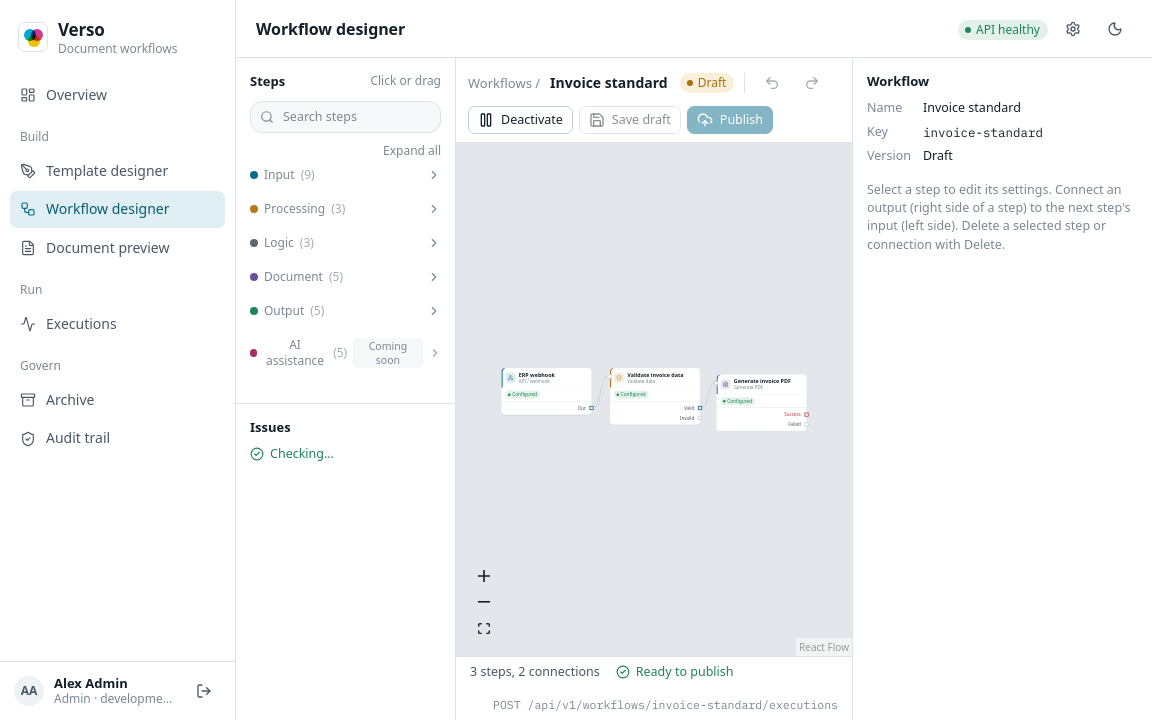
Test: Workflow designer › adds steps from the palette, and allows only one trigger
The width and height of the screenshot is (1152, 720).
Later steps or results of the test are not shown.
Expected: the element named "Workflow designer" is shown, [456,58,852,143]
Click the button "Expand all" at (412, 151), box [383,143,441,159]
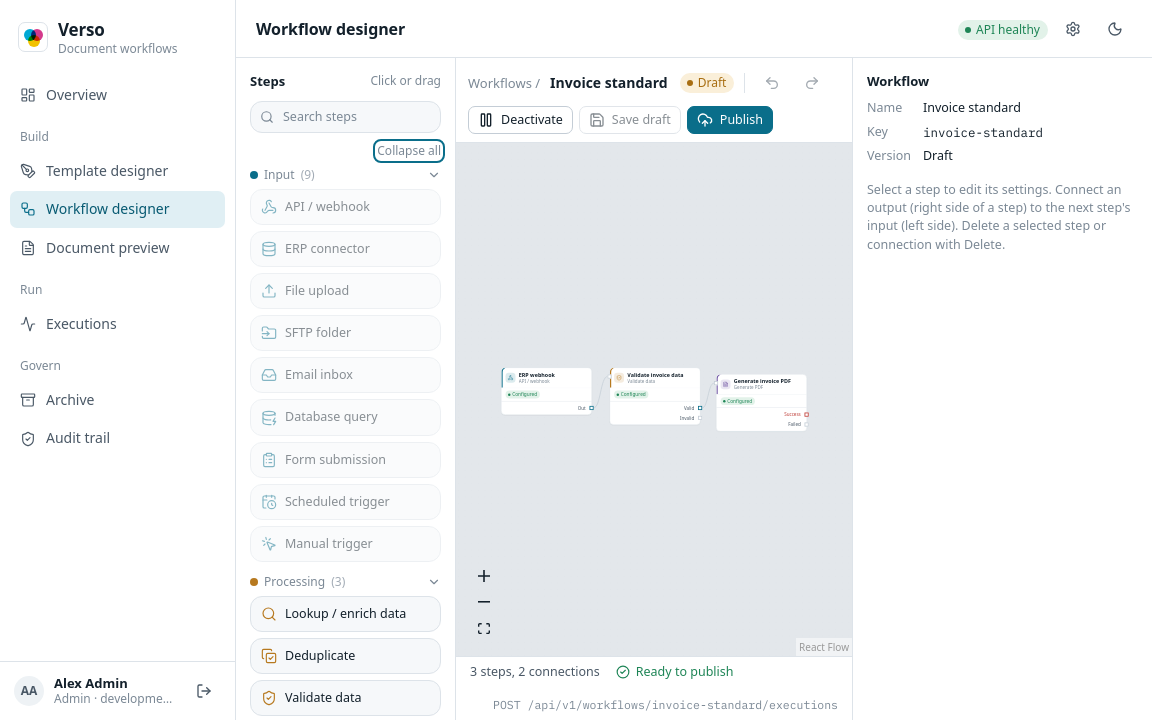
Expected: the button with aria-label "Add API / webhook" is disabled, [250,189,441,225]
Expected: the button with aria-label "Add ERP connector" is disabled, [250,231,441,267]
Expected: the button with aria-label "Add File upload" is disabled, [250,273,441,309]
Click the button with aria-label "Add Validate data" at (346, 698), box [250,680,441,716]
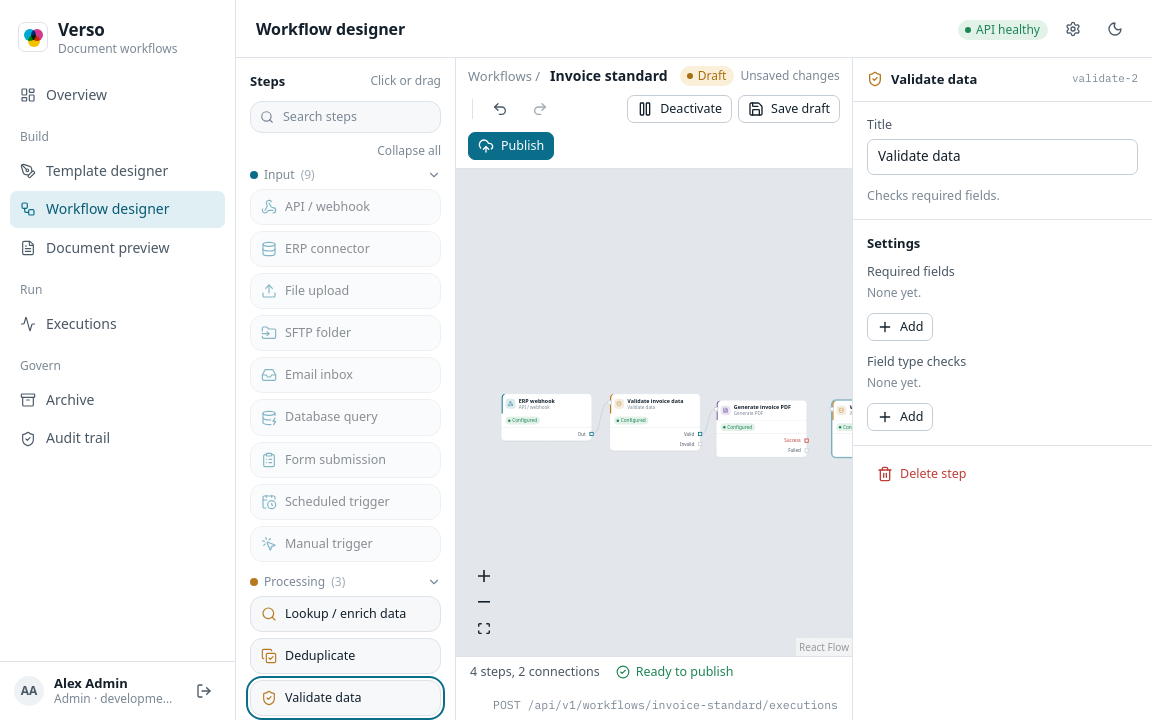
Expected: the heading "Validate data" is shown, [891,70,977,89]
Click the text "Generate invoice PDF" at (762, 407), box [734,404,791,411]
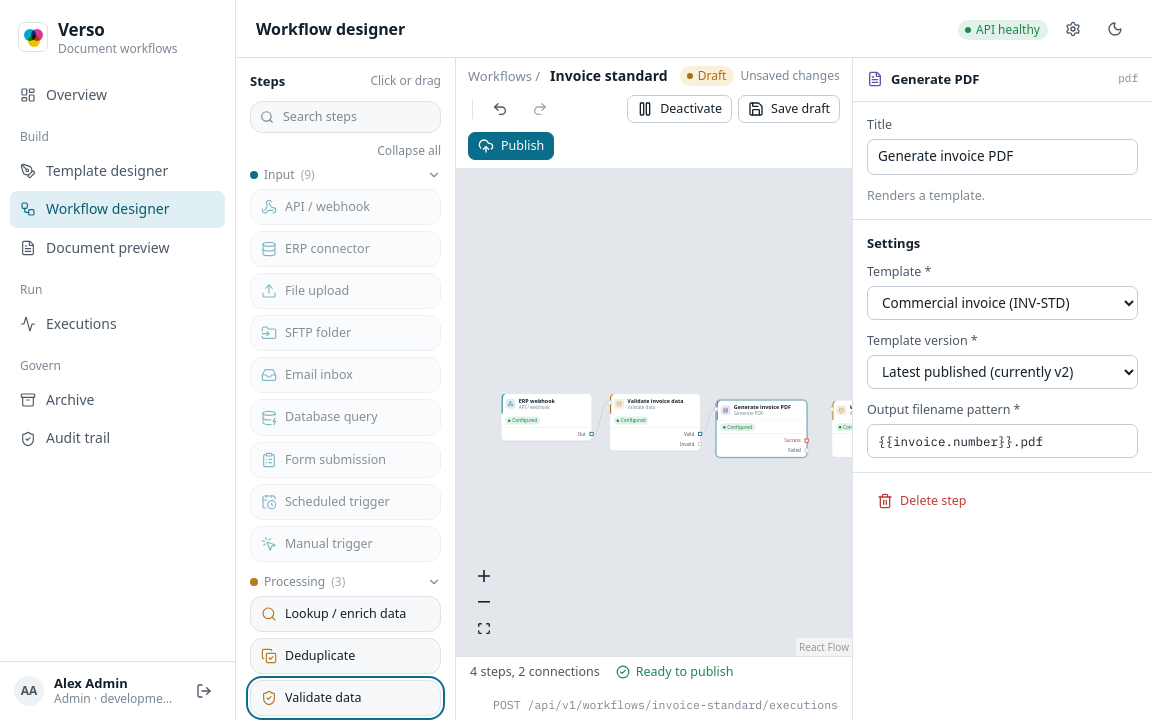
Expected: the heading "Generate PDF" is shown, [891,70,980,89]
